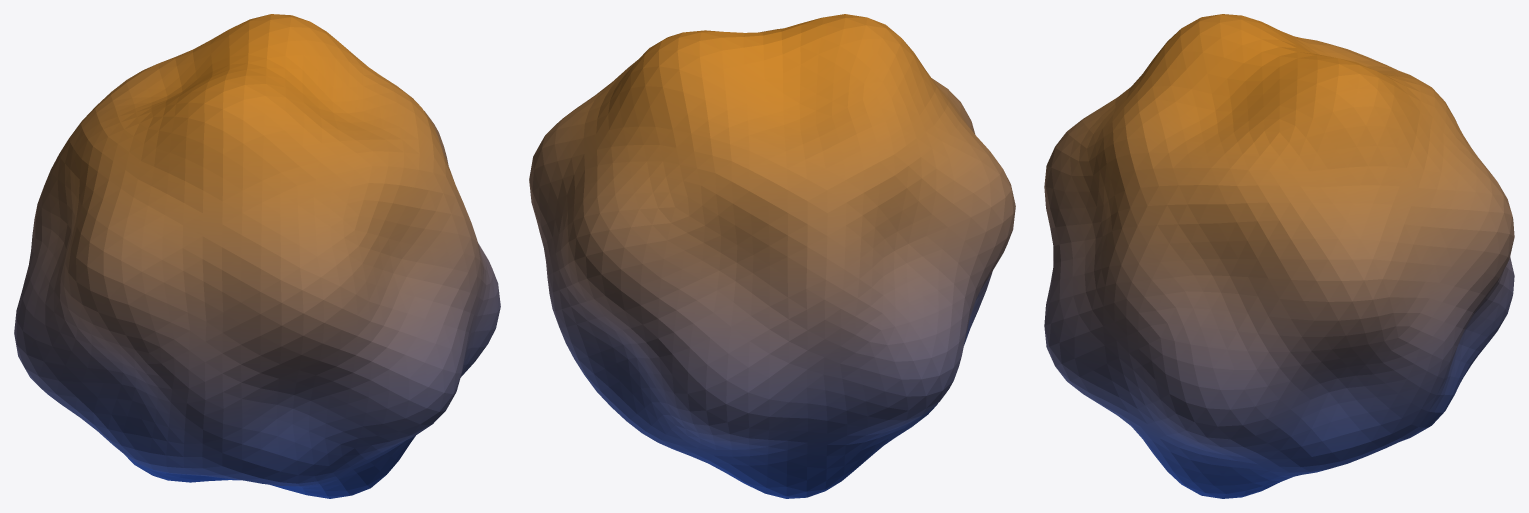
The model's file is sample.obj.
3 renders of one model, left to right at view 1: azimuth 30°, elevation 25°; view 2: azimuth 150°, elevation 25°; view 3: azimuth 270°, elevation 25°, orthographic.
Parts seen in each view (by area): view 1: bumpy_ball; view 2: bumpy_ball; view 3: bumpy_ball.
Part boxes in pixels (x1,y1,x2,y2): bumpy_ball: (14, 14, 500, 498); bumpy_ball: (529, 14, 1015, 498); bumpy_ball: (1044, 14, 1514, 498).
Size of the model in its own units: 2.08 by 2.08 by 2.08.
